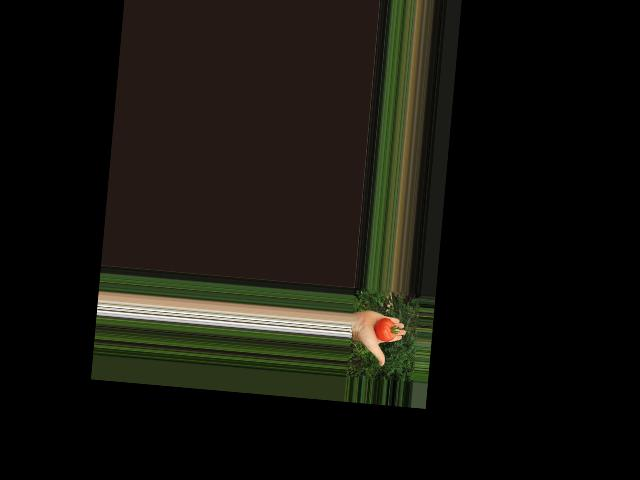tomato: (373, 316, 396, 342)
